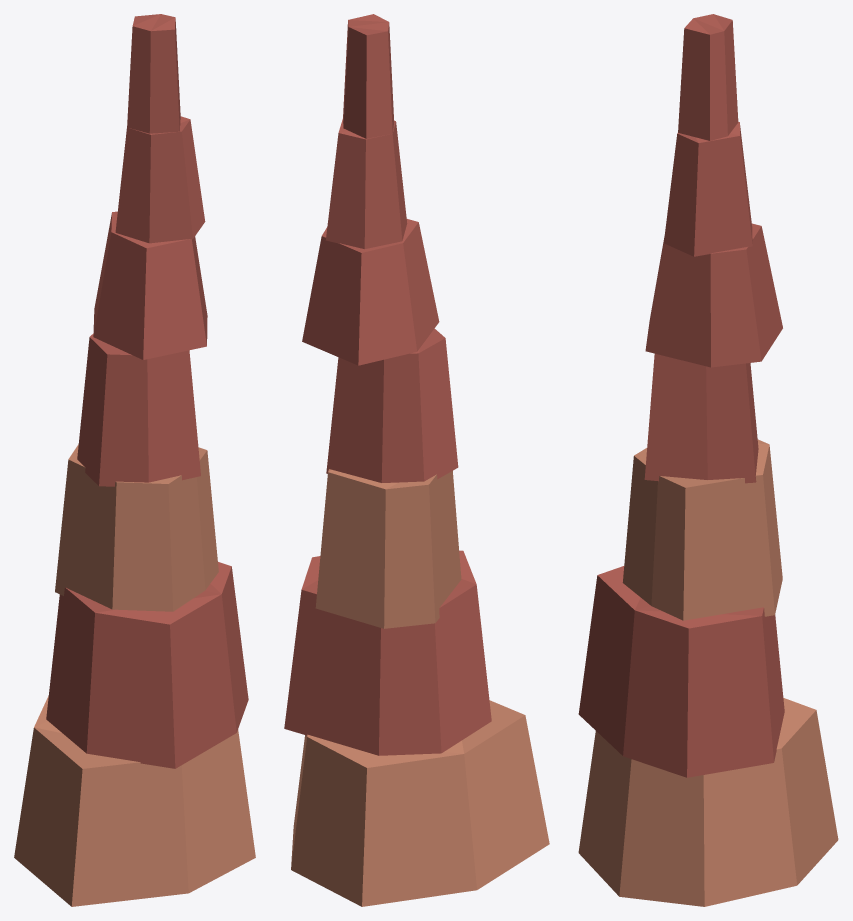
File: Rock_Spire_B.fbx
3 views of the same model, side by side, from view 1: azimuth 30°, elevation 25°; view 2: azimuth 150°, elevation 25°; view 3: azimuth 270°, elevation 25° (orthographic). The views are drawn at different scales.
Visible parts, largest first — view 1: Rock_Spire_B; view 2: Rock_Spire_B; view 3: Rock_Spire_B.
Part boxes in pixels (left/top/right/bottom): Rock_Spire_B: left=14, top=14, right=255, bottom=906; Rock_Spire_B: left=284, top=14, right=549, bottom=906; Rock_Spire_B: left=578, top=14, right=838, bottom=906.
Bounding box in the file's own units: 6.58 × 24 × 6.7.
